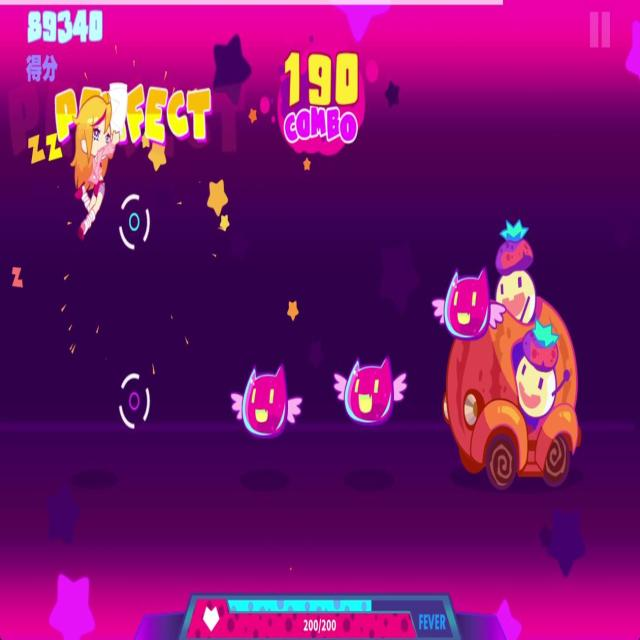cheboss: (440, 216, 586, 494)
mao: (226, 355, 306, 443), (329, 348, 410, 426), (432, 266, 506, 343)
